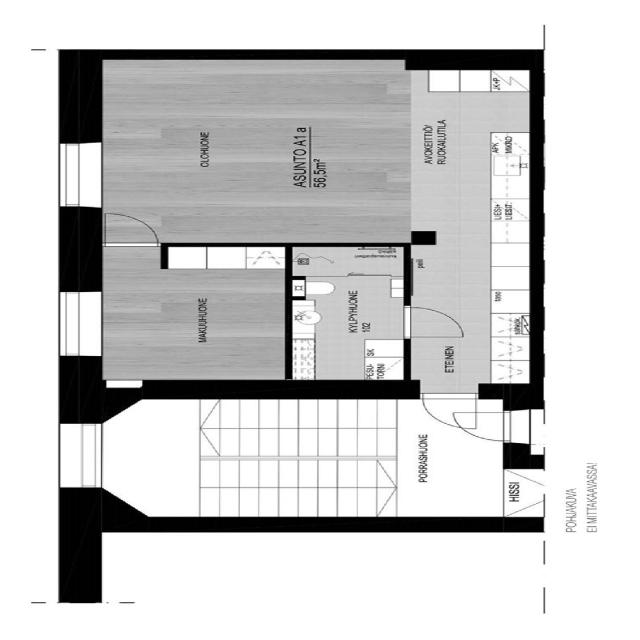door: (83, 206, 165, 251), (404, 295, 464, 345), (418, 391, 478, 434), (448, 405, 516, 442)
window: (38, 418, 125, 500), (46, 132, 112, 224), (51, 279, 107, 366)
zone: (76, 55, 406, 244), (408, 52, 532, 398), (79, 238, 286, 383), (284, 247, 416, 381)
